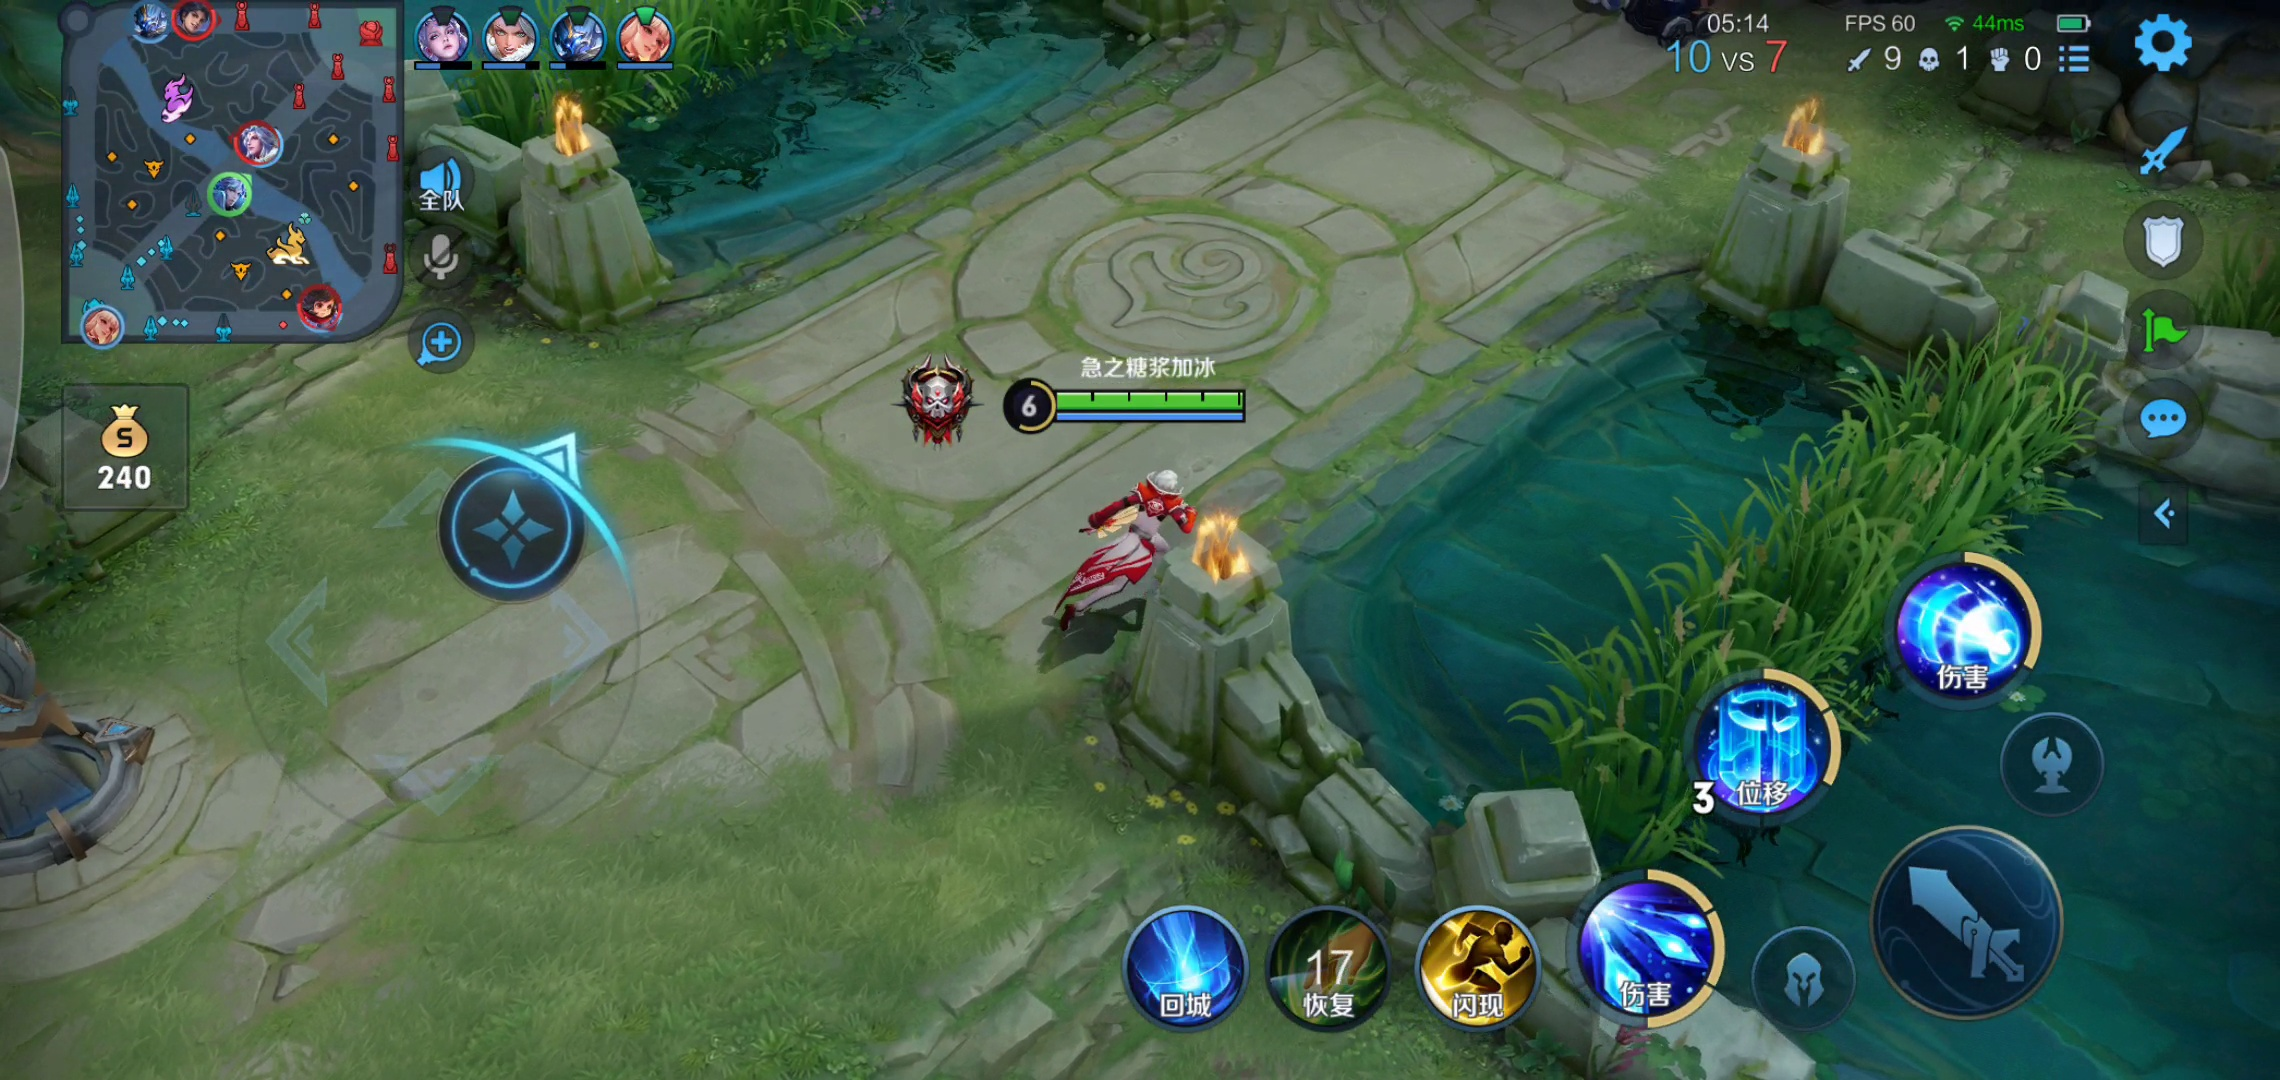grass: (1543, 347, 2081, 863), (436, 1, 864, 144)
hero: (1048, 451, 1207, 631)
